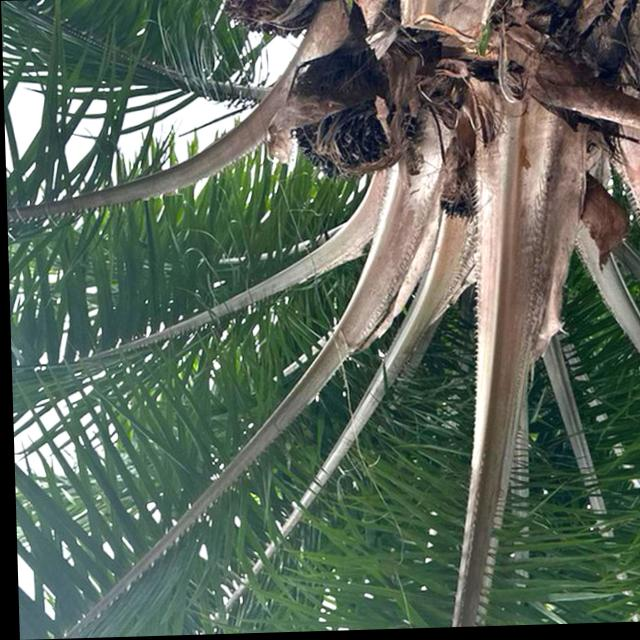unripe: (282, 47, 419, 184)
